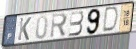0: (34, 14, 50, 40)
9: (85, 8, 102, 36)
B: (67, 10, 85, 38)
D: (101, 6, 120, 34)
K: (17, 17, 32, 42)
R: (49, 12, 69, 40)
